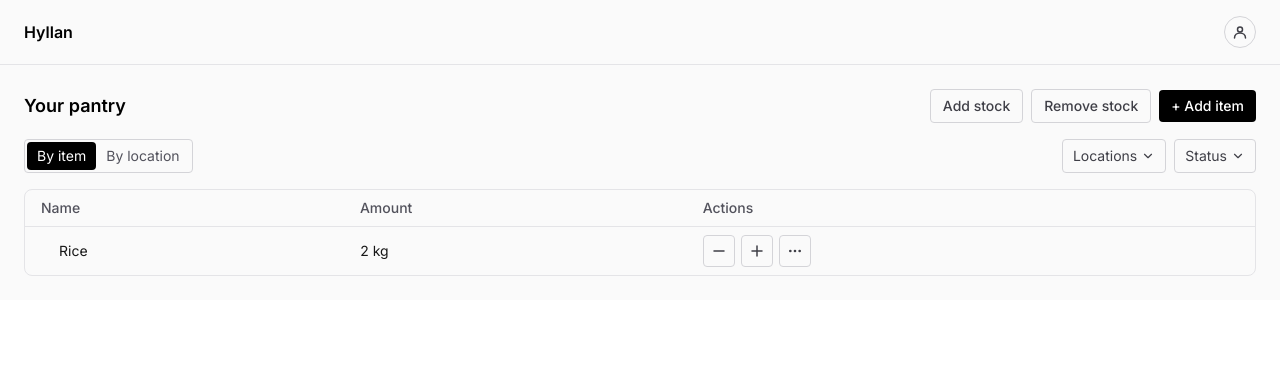
SignedInHome › closes the overflow menu once Edit is selected
What coordinates should you click on to do the following:
click the button named "Actions for Rice"
I would click on:
 (795, 251)
Its box is [779, 235, 811, 267].
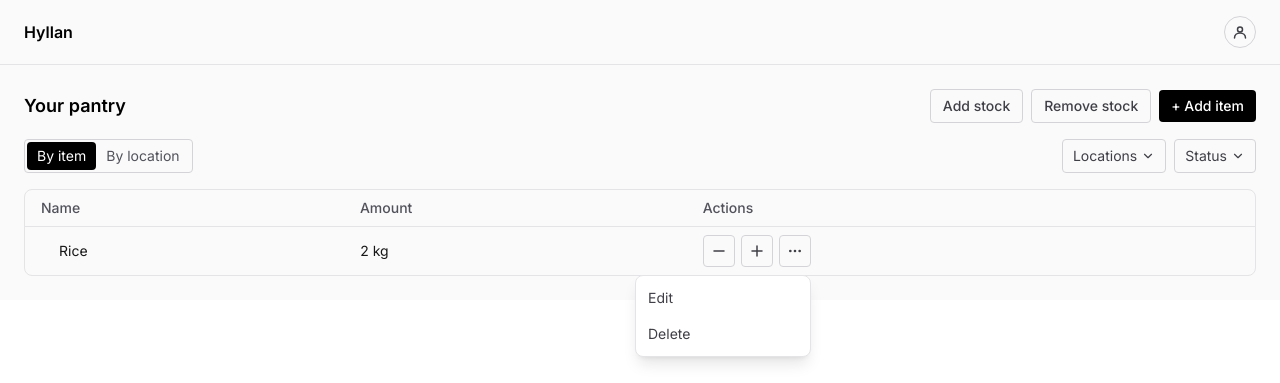
What coordinates should you click on to do the following:
click the menu item "Edit"
I would click on:
 (660, 298)
Its box is [648, 289, 673, 306].
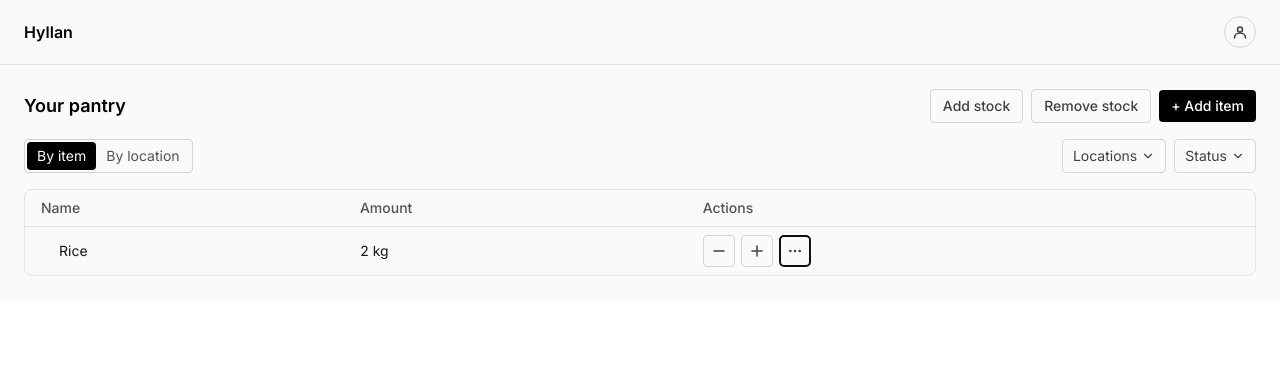
Now the menu item "Delete" is gone
